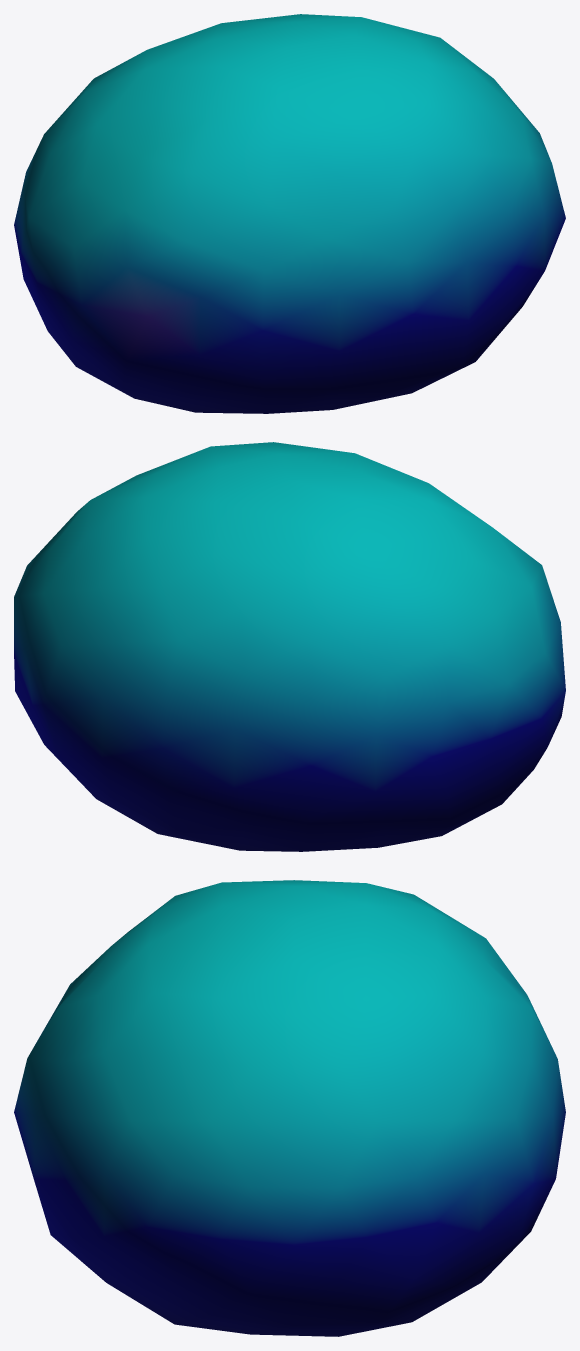
The model's file is RockRounded_2_lod1.glb.
3 renders of one model, top to bottom at view 1: azimuth 30°, elevation 25°; view 2: azimuth 150°, elevation 25°; view 3: azimuth 270°, elevation 25°, orthographic. The views are drawn at different scales.
Parts seen in each view (by area): view 1: RockRounded_2_lod1; view 2: RockRounded_2_lod1; view 3: RockRounded_2_lod1.
Boxes of the visible parts, bbox=[...] form: RockRounded_2_lod1: bbox=[14, 14, 565, 413]; RockRounded_2_lod1: bbox=[14, 442, 565, 851]; RockRounded_2_lod1: bbox=[14, 880, 565, 1336].
Bounding box in the file's own units: 1.62 × 0.9986 × 1.41.
